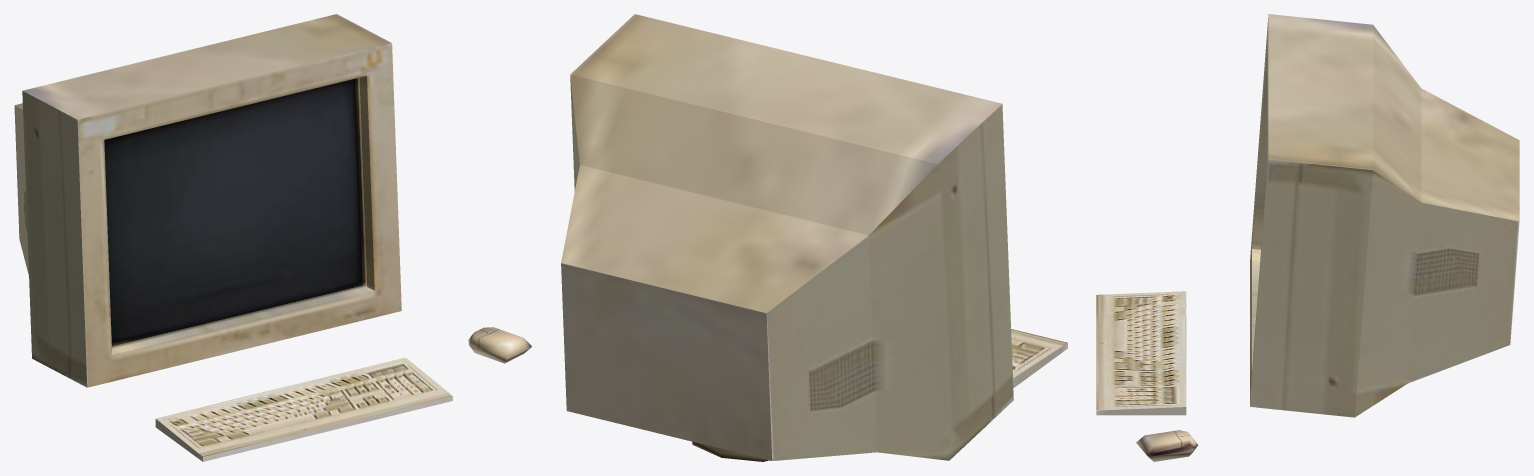
Rendered from computer_screen.FBX.
3 views of the same model, side by side, from view 1: azimuth 30°, elevation 25°; view 2: azimuth 150°, elevation 25°; view 3: azimuth 270°, elevation 25° (orthographic). The views are drawn at different scales.
Visible parts, largest first — view 1: computer; view 2: computer; view 3: computer.
Part boxes in pixels (x1=…): computer: x1=14, y1=14, x2=532, y2=461; computer: x1=561, y1=14, x2=1067, y2=461; computer: x1=1096, y1=14, x2=1519, y2=461.
Size of the model in its own units: 58.62 by 40.66 by 57.85.
